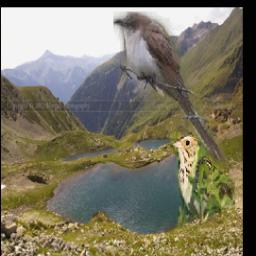Cuckoo: (114, 13, 229, 164)
Sparrow: (171, 132, 236, 228)
